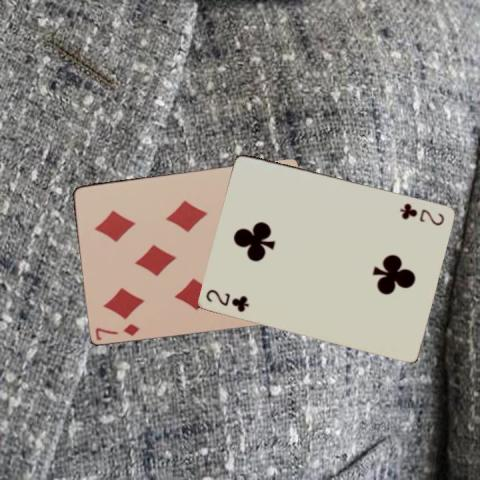2c: (397, 200, 446, 227), (203, 286, 251, 313)
7d: (93, 320, 141, 341)
